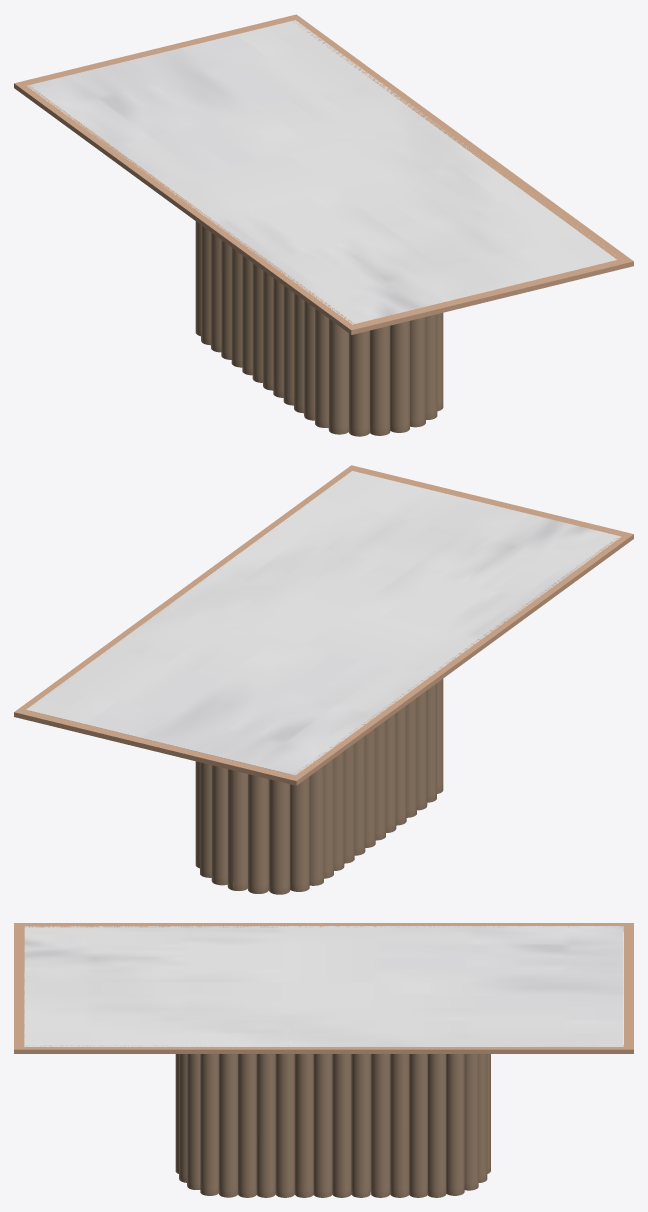
File: table2.fbx
The picture shows the model from 3 angles, top to bottom: view 1: azimuth 30°, elevation 25°; view 2: azimuth 150°, elevation 25°; view 3: azimuth 270°, elevation 25°; orthographic projection. The views are drawn at different scales.
Parts seen in each view (by area): view 1: tabletop, base outside, rim; view 2: tabletop, base outside, rim; view 3: tabletop, base outside, rim.
Part boxes in pixels (<box>): tabletop: <box>26,20,618,324</box>; base outside: <box>195,221,443,436</box>; rim: <box>14,14,633,334</box>; tabletop: <box>26,471,621,775</box>; base outside: <box>195,679,443,894</box>; rim: <box>14,465,633,785</box>; tabletop: <box>24,926,623,1046</box>; base outside: <box>175,1054,490,1197</box>; rim: <box>14,923,633,1053</box>.
Size of the model in its own units: 713 by 485 by 1476.
